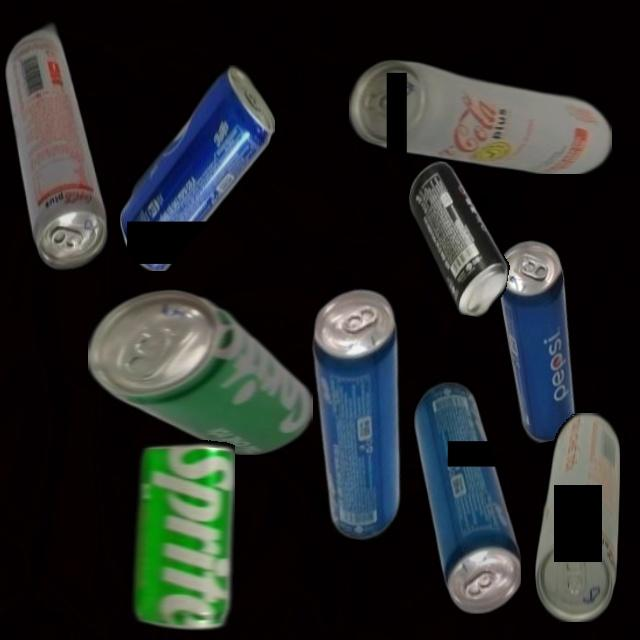debris: (279, 281, 436, 546), (88, 288, 313, 455), (119, 64, 275, 271), (349, 58, 612, 174), (97, 439, 235, 631), (4, 21, 108, 271), (412, 381, 521, 614), (391, 157, 525, 321), (491, 236, 592, 445), (534, 412, 620, 622)
